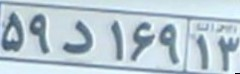character: (57, 16, 101, 60), (128, 17, 159, 67), (156, 15, 183, 70), (103, 14, 130, 66), (26, 9, 53, 57), (1, 11, 26, 55), (216, 32, 240, 74), (192, 30, 213, 72)
